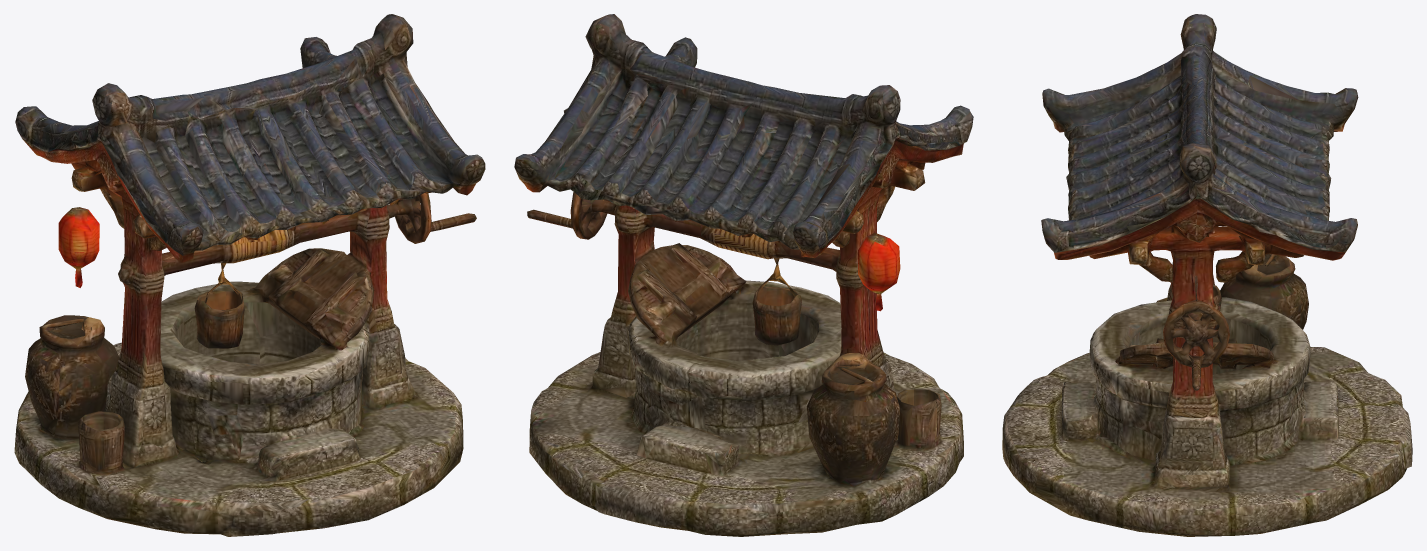
File: poco.glb
3 renders of one model, left to right at view 1: azimuth 30°, elevation 25°; view 2: azimuth 150°, elevation 25°; view 3: azimuth 270°, elevation 25°, orthographic. The views are drawn at different scales.
Parts seen in each view (by area): view 1: poco; view 2: poco; view 3: poco.
Part boxes in pixels (bbox=[...]): poco: bbox=[14, 14, 485, 536]; poco: bbox=[514, 14, 973, 536]; poco: bbox=[1002, 14, 1412, 536].
Bounding box in the file's own units: 2.8 × 2.5 × 2.49.
1 material, 1 textured.
